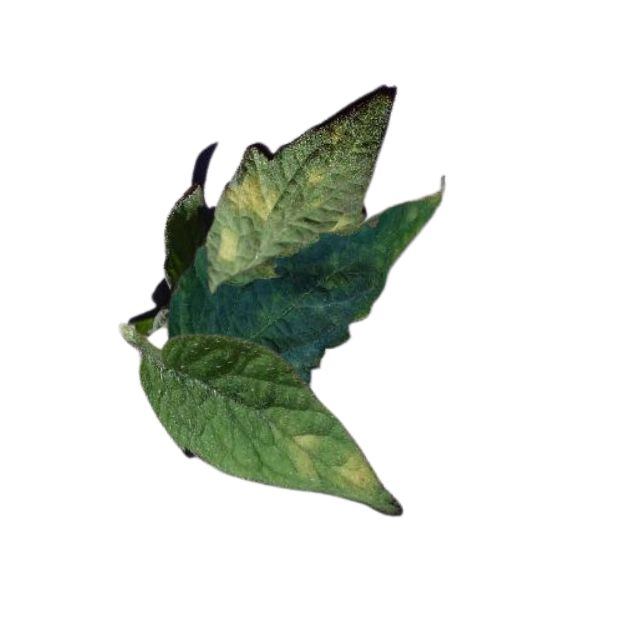Leaf_Mold: (366, 190, 439, 273), (220, 168, 279, 221), (329, 446, 382, 501), (283, 428, 321, 482), (214, 227, 241, 269), (298, 162, 330, 189)
